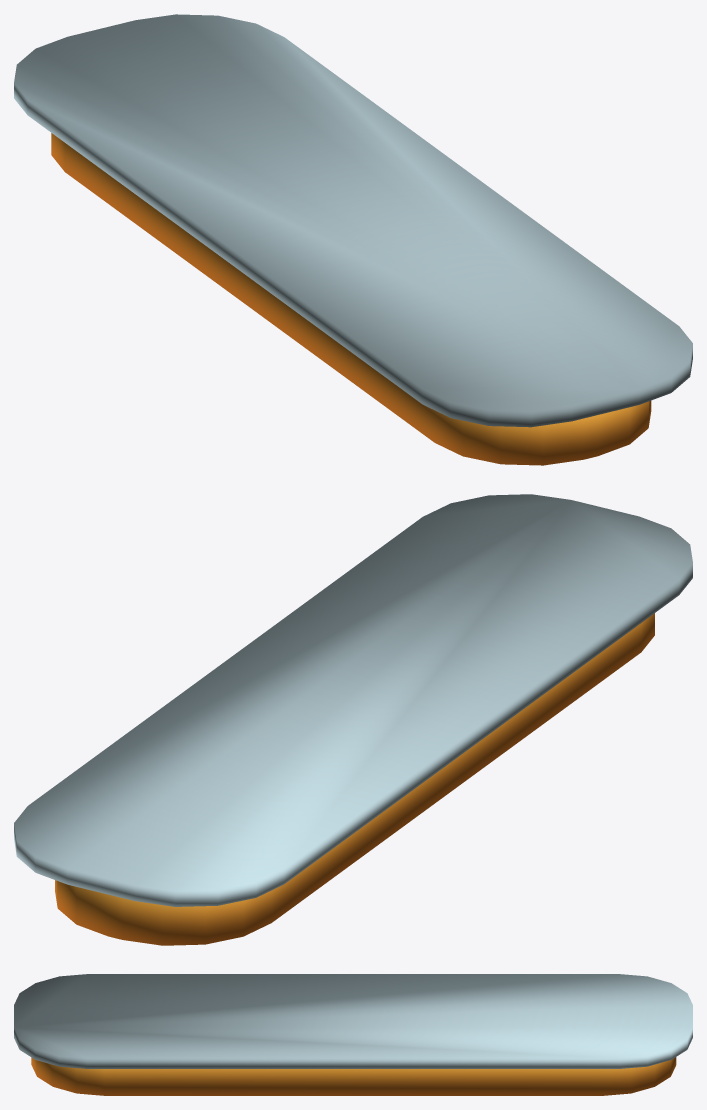
File: table.fbx
3 renders of one model, top to bottom at view 1: azimuth 30°, elevation 25°; view 2: azimuth 150°, elevation 25°; view 3: azimuth 270°, elevation 25°, orthographic. The views are drawn at different scales.
Visible parts, largest first — view 1: Cube__1_; view 2: Cube__1_; view 3: Cube__1_.
Part boxes in pixels (x1=…): Cube__1_: x1=14, y1=14, x2=692, y2=465; Cube__1_: x1=14, y1=494, x2=692, y2=945; Cube__1_: x1=14, y1=974, x2=692, y2=1095.
Bounding box in the file's own units: 6.77 × 1.76 × 23.05.
